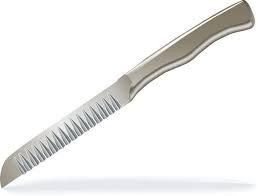Knife: (0, 0, 255, 188)
